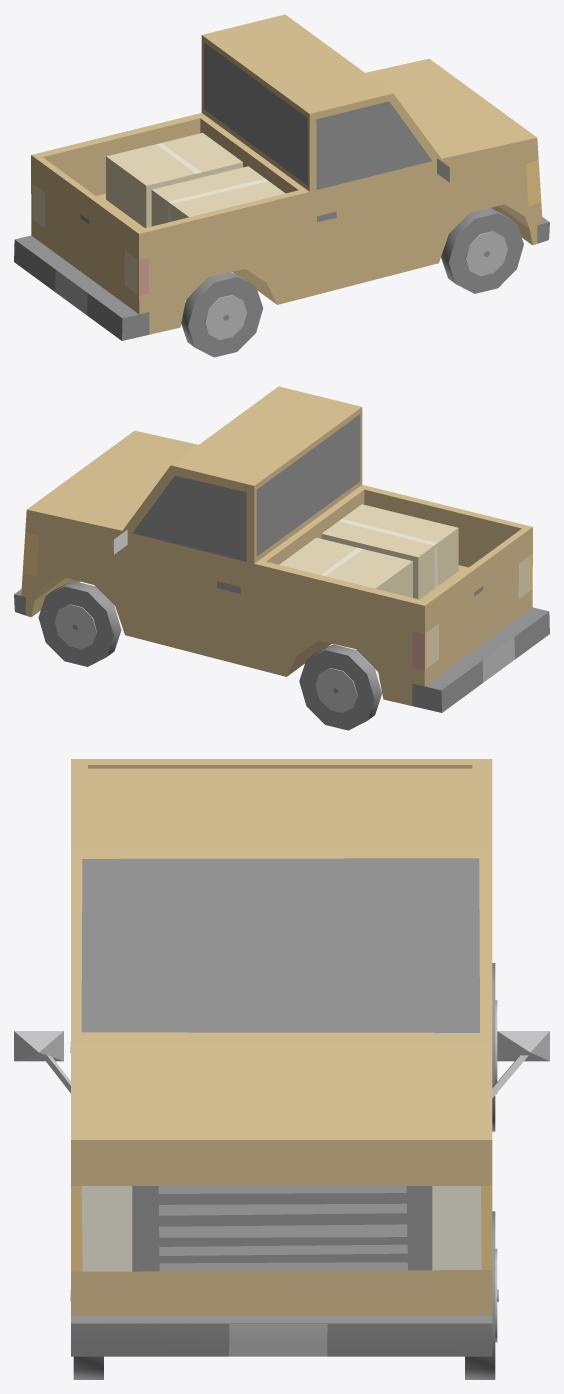
File: kar_17.fbx
3 views of the same model, one above another, from view 1: azimuth 30°, elevation 25°; view 2: azimuth 150°, elevation 25°; view 3: azimuth 270°, elevation 25° (orthographic). The views are drawn at different scales.
Parts seen in each view (by area): view 1: Cube, Cylinder_6, Cylinder_9; view 2: Cube, Cylinder_8, Cylinder_7; view 3: Cube, Cylinder_7, Cylinder_8, Cylinder_6.
Boxes of the visible parts, left/top/right/bottom form: Cube: left=14, top=14, right=549, bottom=340; Cylinder_6: left=441, top=208, right=523, bottom=293; Cylinder_9: left=181, top=272, right=263, bottom=357; Cube: left=14, top=386, right=549, bottom=712; Cylinder_8: left=299, top=644, right=381, bottom=730; Cylinder_7: left=38, top=580, right=121, bottom=666; Cube: left=14, top=759, right=549, bottom=1356; Cylinder_7: left=465, top=1211, right=498, bottom=1379; Cylinder_8: left=492, top=963, right=497, bottom=1131; Cylinder_6: left=70, top=1290, right=103, bottom=1379.
Bounding box in the file's own units: 435 × 215 × 242.
